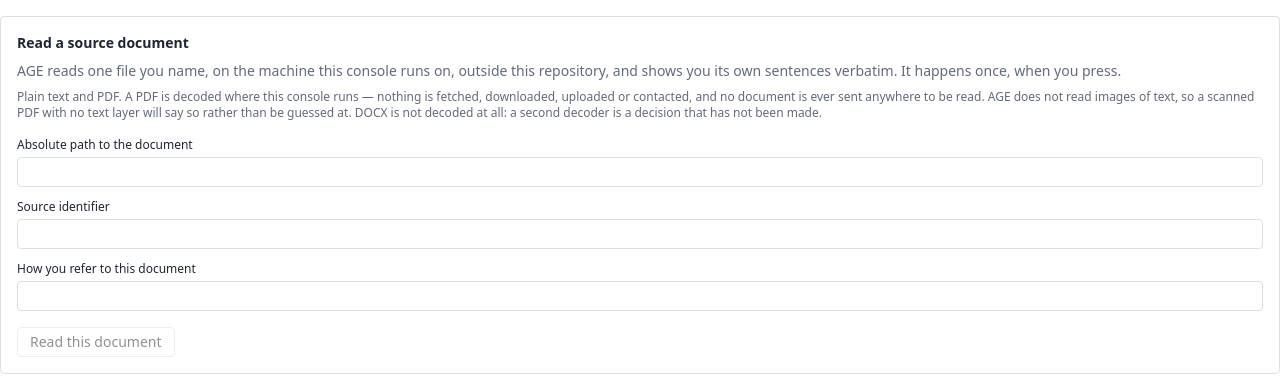
Test: SourcesPanel › refuses to read until the operator has named the document, its id and its label
The image size is (1280, 391).
Expected: the button "Read this document" is disabled, [17, 327, 174, 357]
In the field labelled "Absolute path to the document": coordinates (640, 172) [17, 157, 1263, 187], type "E:/fictional-operator-files/brief.txt"
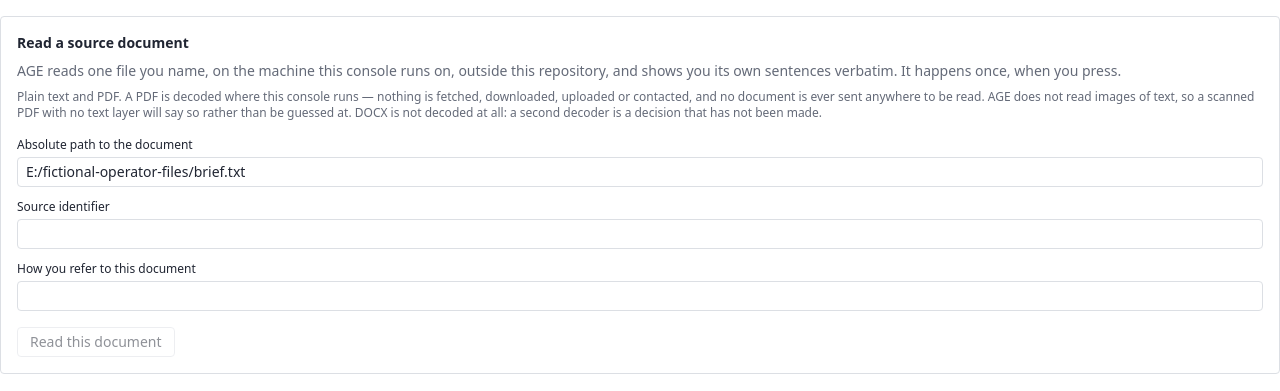
In the field labelled "Source identifier": coordinates (640, 234) [17, 219, 1263, 249], type "src-fictional-brief"
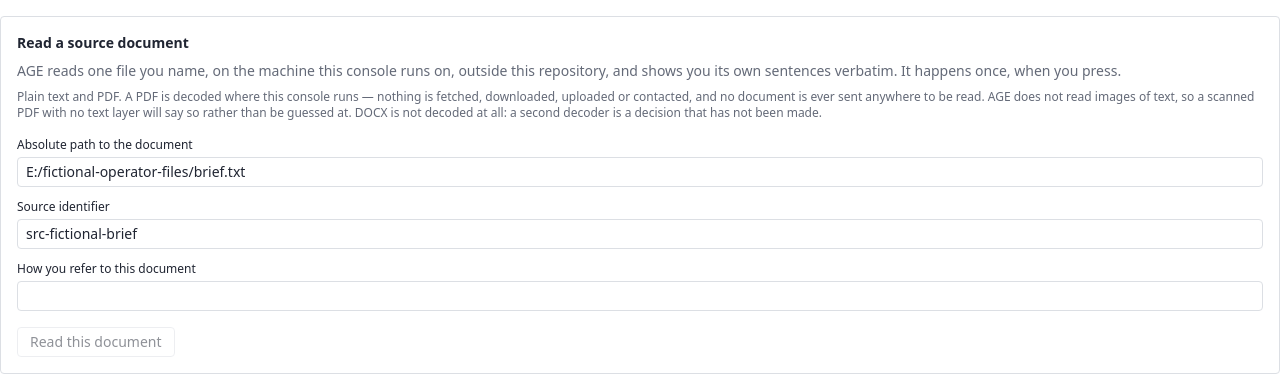
In the field labelled "How you refer to this document": coordinates (640, 296) [17, 281, 1263, 311], type "Fictional Kite Repairs brief"
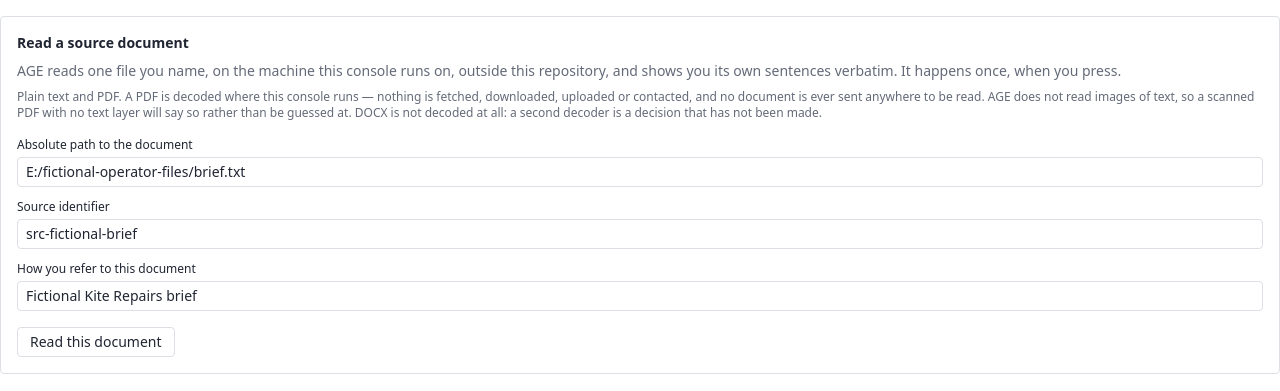
Result: the button "Read this document" is enabled at [17, 327, 174, 357]
